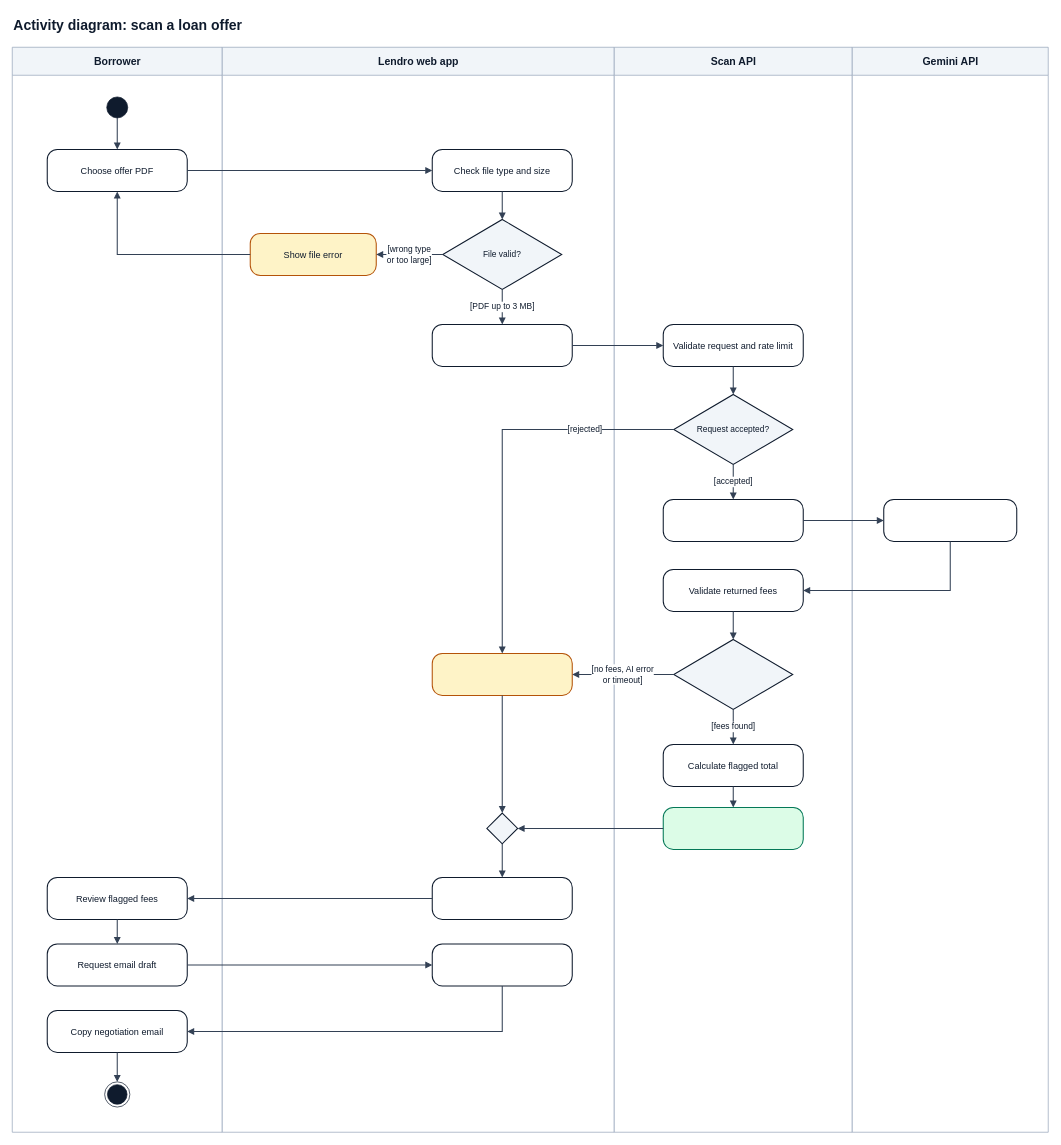
The diagram is 1061 pixels wide and 1145 high, and some of its shapes have lost their labels. Each missing label, with the centre of its shape:
Build estimated fee scan: the point at 501,674
Build scan result: the point at 732,828
Read document and flag fees: the point at 950,520
Request fee extraction: the point at 732,520
Send PDF to scan API: the point at 501,345
Show flagged fees and summary: the point at 501,898
Show negotiation email: the point at 501,964
Usable fees returned?: the point at 733,674
